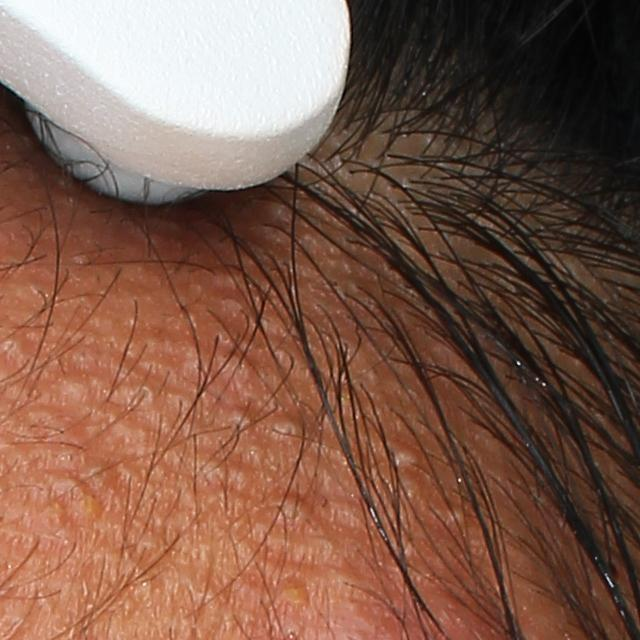comedo: (192, 455, 243, 491), (216, 349, 253, 389), (269, 492, 306, 531), (52, 373, 91, 407)
